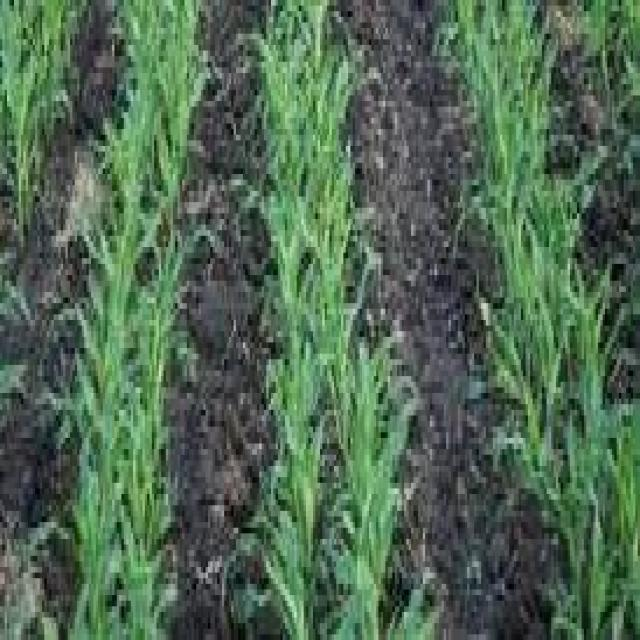row: (331, 0, 585, 640), (0, 1, 154, 640), (154, 0, 288, 640), (531, 1, 640, 442)
